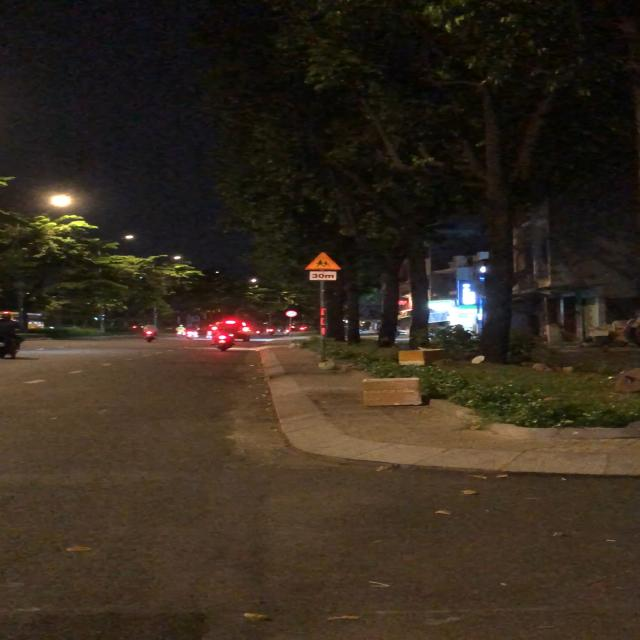Bien bao tre em: (303, 251, 344, 271)
